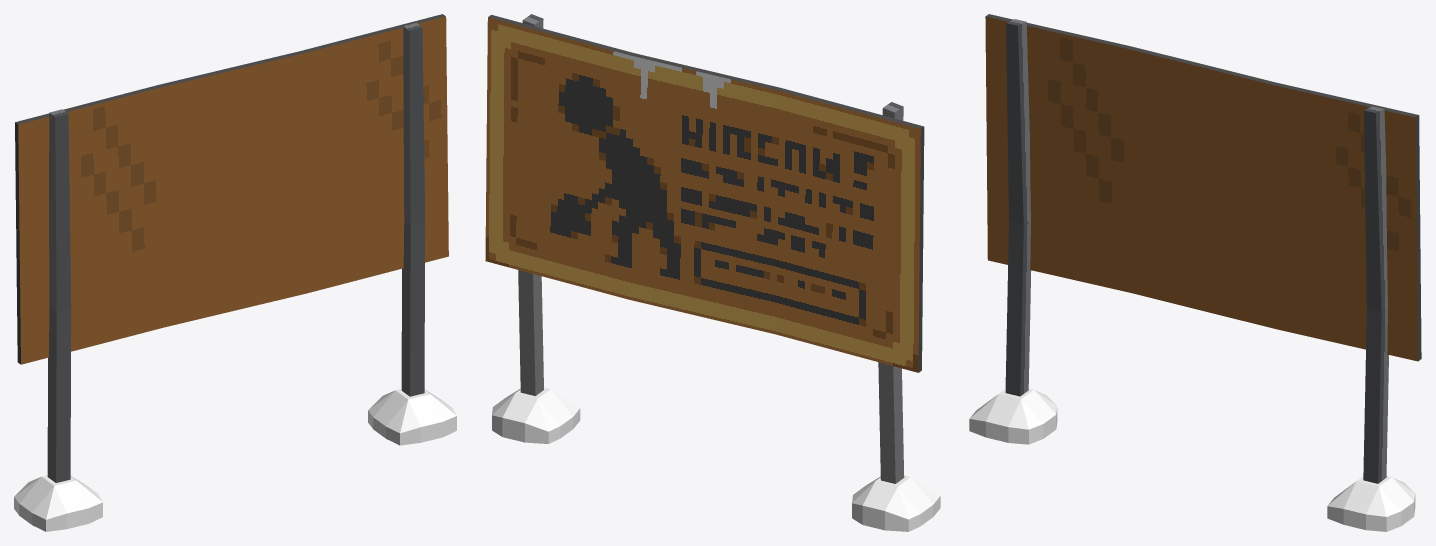
Rendered from sign3.glb.
3 views of the same model, side by side, from view 1: azimuth 30°, elevation 25°; view 2: azimuth 150°, elevation 25°; view 3: azimuth 330°, elevation 25° (orthographic).
Parts seen in each view (by area): view 1: Cube.004, Cube.006, Cube.003; view 2: Cube.004, Cube.003, Cube.006; view 3: Cube.004, Cube.006, Cube.003.
Boxes of the visible parts, x1=… form: Cube.004: x1=15, y1=14, x2=448, y2=364; Cube.006: x1=14, y1=109, x2=102, y2=531; Cube.003: x1=368, y1=23, x2=456, y2=445; Cube.004: x1=485, y1=15, x2=924, y2=372; Cube.003: x1=492, y1=14, x2=580, y2=443; Cube.006: x1=852, y1=102, x2=940, y2=531; Cube.004: x1=985, y1=14, x2=1421, y2=361; Cube.006: x1=969, y1=19, x2=1057, y2=444; Cube.003: x1=1327, y1=106, x2=1415, y2=531.
Size of the model in its own units: 123 by 109 by 18.95.
Materials: 1 (1 with a texture image).
